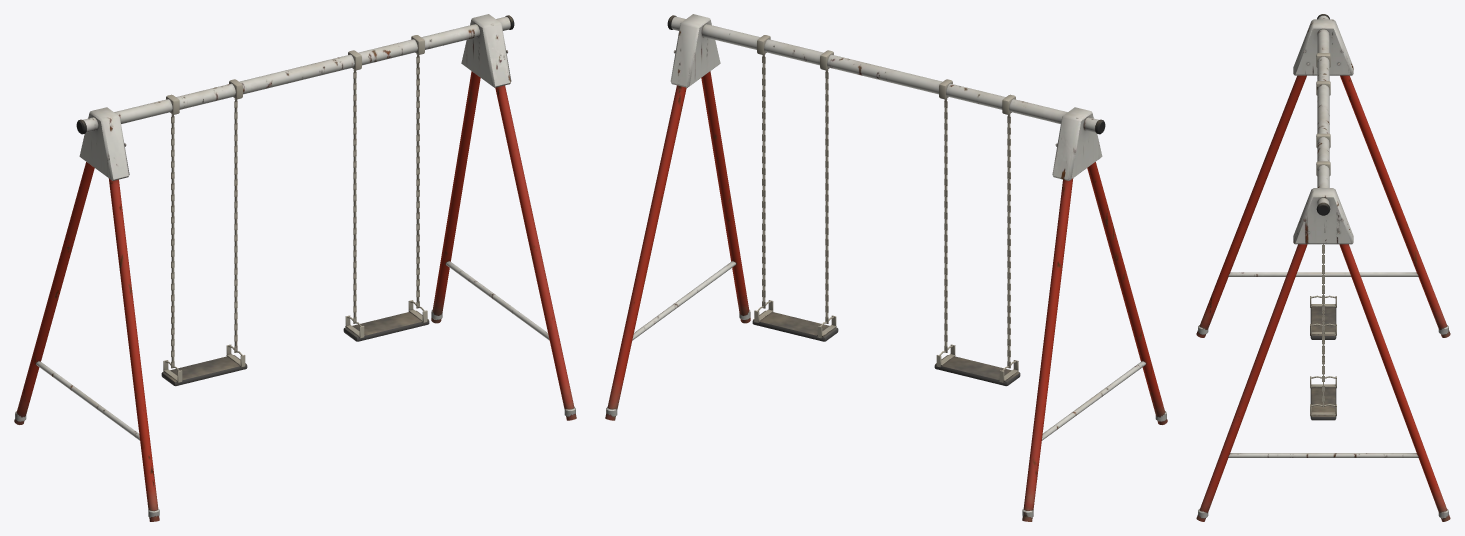
The model's file is swing_set.glb.
The picture shows the model from 3 angles, left to right: view 1: azimuth 30°, elevation 25°; view 2: azimuth 150°, elevation 25°; view 3: azimuth 270°, elevation 25°; orthographic projection. The views are drawn at different scales.
Visible parts, largest first — view 1: swing_set, swing_set_swing1, swing_set_swing0; view 2: swing_set, swing_set_swing1, swing_set_swing0; view 3: swing_set, swing_set_swing1, swing_set_swing0.
Boxes of the visible parts, x1=… form: swing_set: x1=14, y1=14, x2=576, y2=521; swing_set_swing1: x1=343, y1=35, x2=429, y2=341; swing_set_swing0: x1=161, y1=79, x2=247, y2=386; swing_set: x1=605, y1=14, x2=1167, y2=521; swing_set_swing1: x1=752, y1=35, x2=838, y2=341; swing_set_swing0: x1=934, y1=79, x2=1020, y2=386; swing_set: x1=1196, y1=14, x2=1450, y2=521; swing_set_swing1: x1=1310, y1=133, x2=1336, y2=420; swing_set_swing0: x1=1310, y1=53, x2=1336, y2=339.
Bounding box in the file's own units: 2.94 × 2.31 × 1.66.
3 materials, 3 textured.
